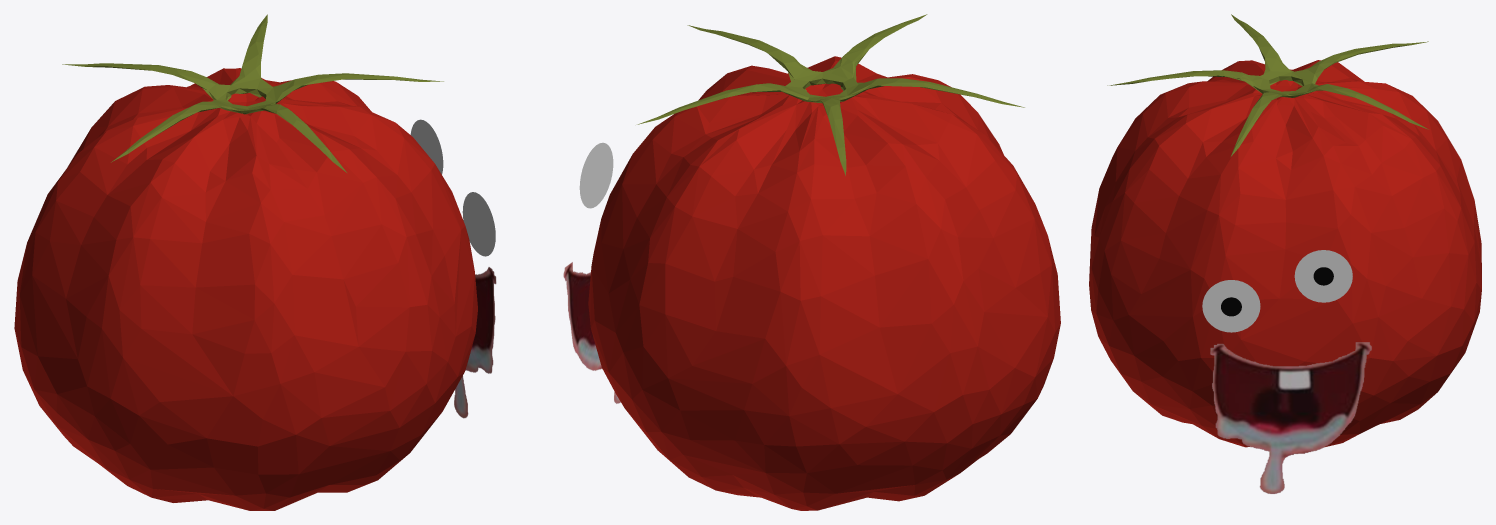
The model's file is Sun Gold Tomato_Dumb.glb.
3 views of the same model, side by side, from view 1: azimuth 30°, elevation 25°; view 2: azimuth 150°, elevation 25°; view 3: azimuth 270°, elevation 25° (orthographic). The views are drawn at different scales.
Parts seen in each view (by area): view 1: Tomato; view 2: Tomato; view 3: Tomato.
Boxes of the visible parts, x1,y1,x2,y2 form: Tomato: (14, 14, 496, 510); Tomato: (563, 14, 1060, 510); Tomato: (1089, 14, 1481, 493).
Size of what is drawn, in the model's own units: 1.87 by 1.76 by 1.79.
Materials: 5 (1 with a texture image).
